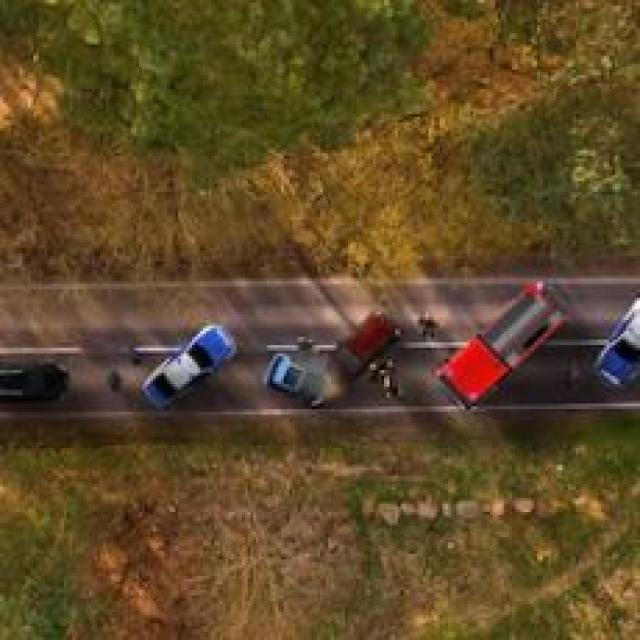traffic_incident: (253, 292, 418, 401)
